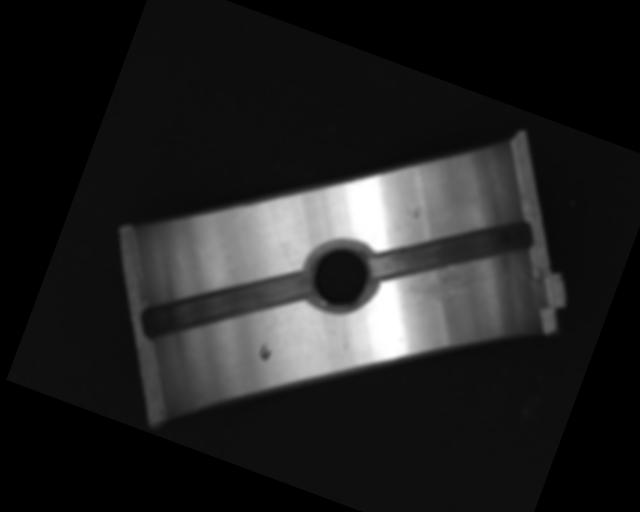blot: (256, 341, 274, 363)
bruise: (403, 199, 425, 222)
gap: (136, 225, 313, 383), (367, 175, 539, 323)
hole: (298, 230, 385, 321)
nick: (327, 326, 362, 370)
scratch: (398, 239, 496, 327)
